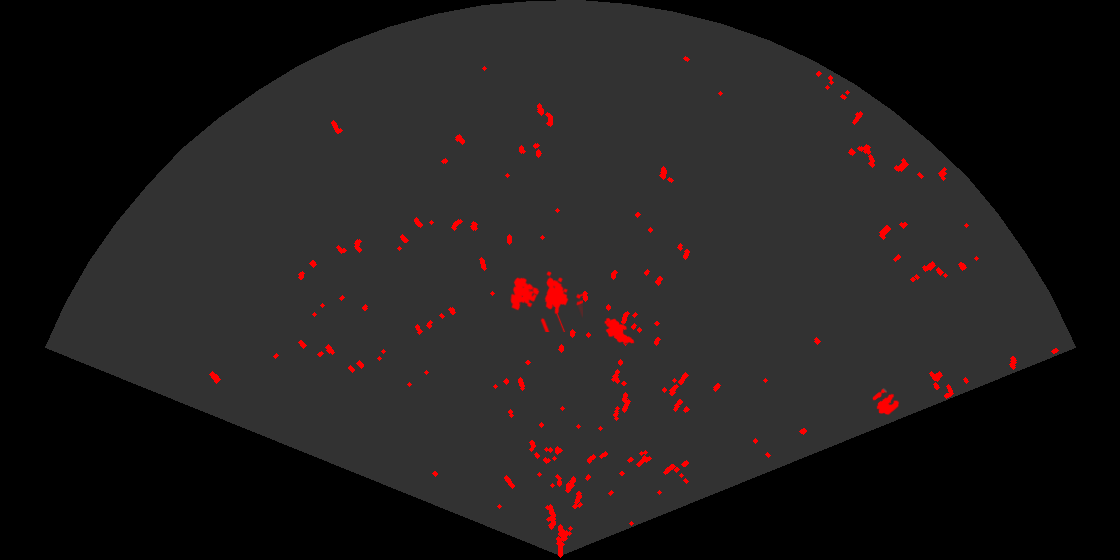AUV: (603, 316, 636, 345)
ball: (871, 387, 901, 417)
cage: (509, 269, 583, 332)
